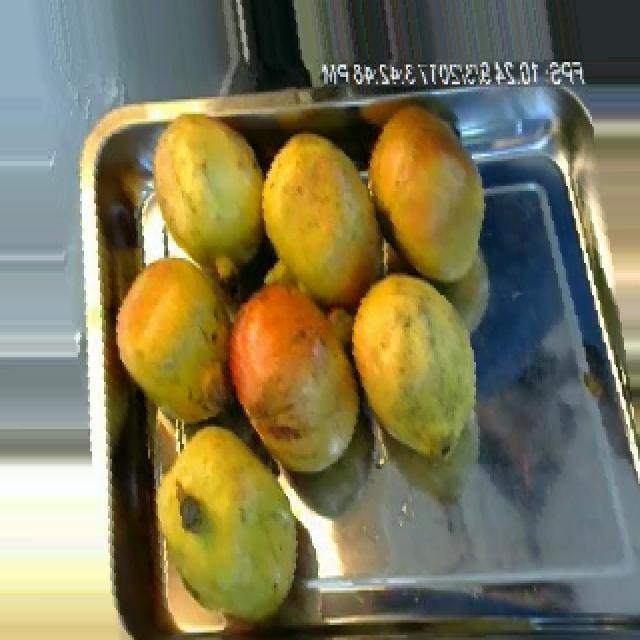fruit: (340, 256, 488, 484), (218, 261, 366, 488), (104, 238, 246, 447), (250, 124, 396, 318), (356, 96, 496, 288), (136, 96, 272, 288)
